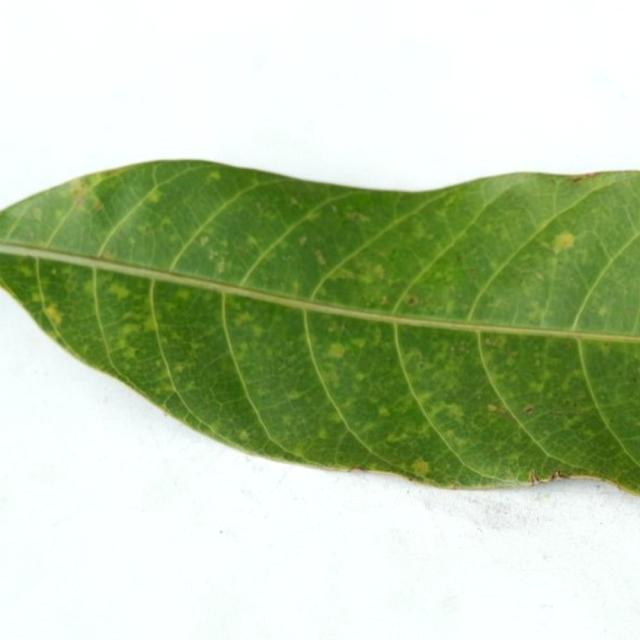Mango: (0, 161, 639, 492)
Powdery_Mildew: (556, 221, 586, 262), (70, 183, 93, 210), (550, 231, 575, 254), (42, 303, 62, 326), (107, 282, 131, 301), (566, 172, 606, 183), (410, 459, 430, 476), (233, 312, 254, 327), (326, 343, 346, 358), (346, 211, 370, 223), (146, 187, 163, 203), (143, 316, 159, 331), (313, 248, 327, 265), (120, 324, 138, 336), (371, 264, 385, 279), (175, 289, 191, 301), (215, 258, 227, 274), (251, 325, 265, 338), (91, 197, 103, 211), (31, 207, 42, 220), (209, 170, 221, 181), (406, 295, 418, 306), (378, 406, 390, 417), (238, 429, 249, 440), (598, 306, 610, 316), (524, 405, 534, 415), (298, 235, 308, 245), (200, 235, 209, 245), (487, 404, 498, 412)
